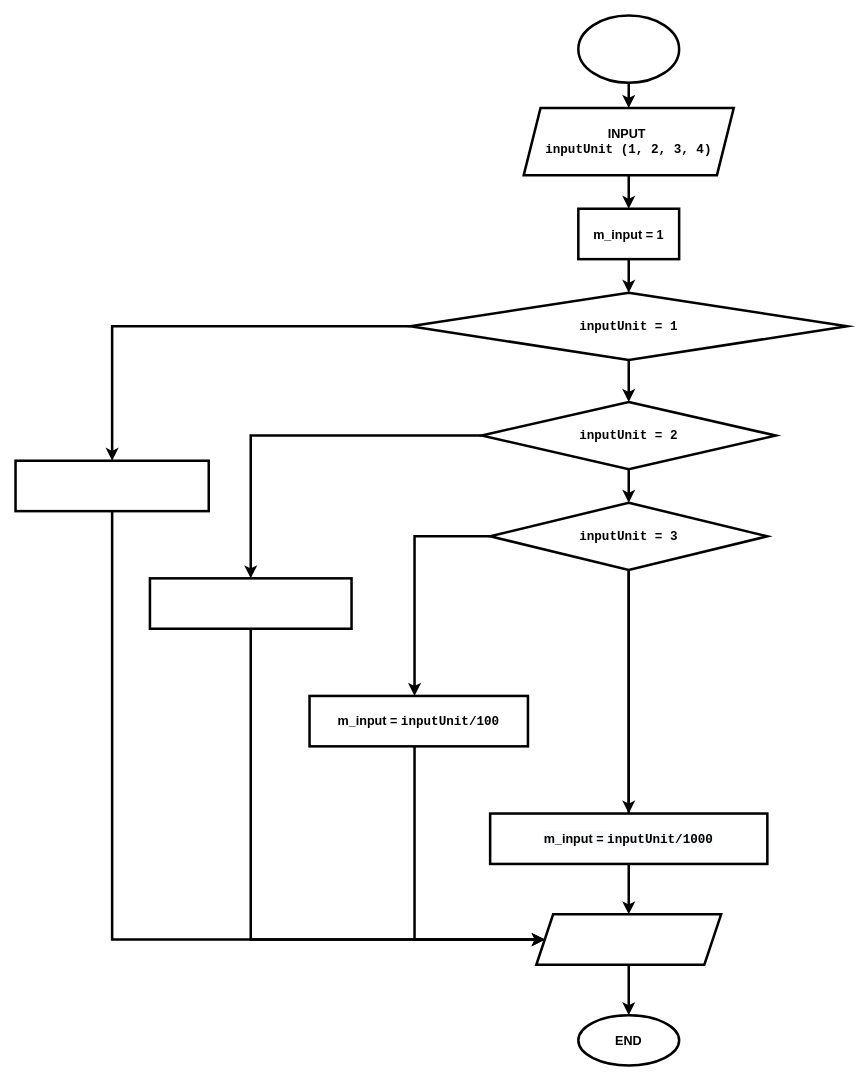
This 863x1081 diagram has some shape labels left out. The shapes that lost their labels are listed below. From the top down, each one's centre as x and y in pixels, then its label:
pixel 628 49: BEGIN
pixel 112 485: m_input = inputUnit
pixel 250 603: m_input = inputUnit /10
pixel 628 939: DISPLAY m_input
